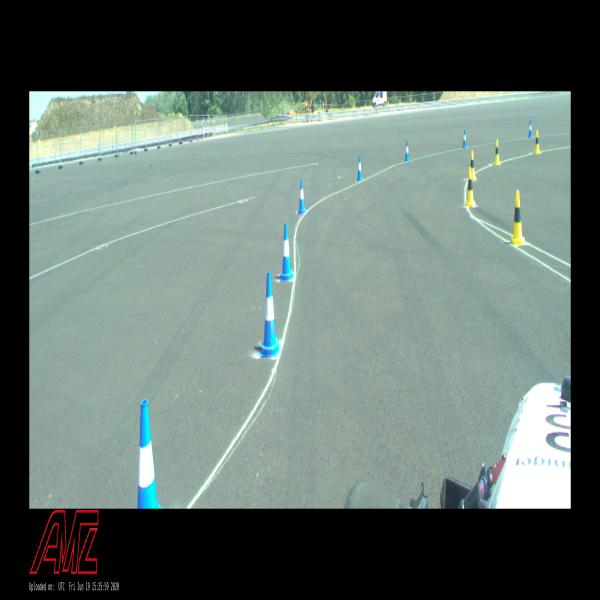blue_cone: (138, 399, 162, 508), (259, 271, 282, 357), (280, 222, 294, 281), (297, 179, 307, 214), (356, 156, 362, 182), (404, 141, 410, 162), (462, 130, 467, 148), (528, 121, 533, 138)
yellow_cone: (509, 190, 526, 246), (466, 167, 476, 207), (494, 139, 501, 165), (470, 150, 476, 180), (535, 130, 541, 154)
